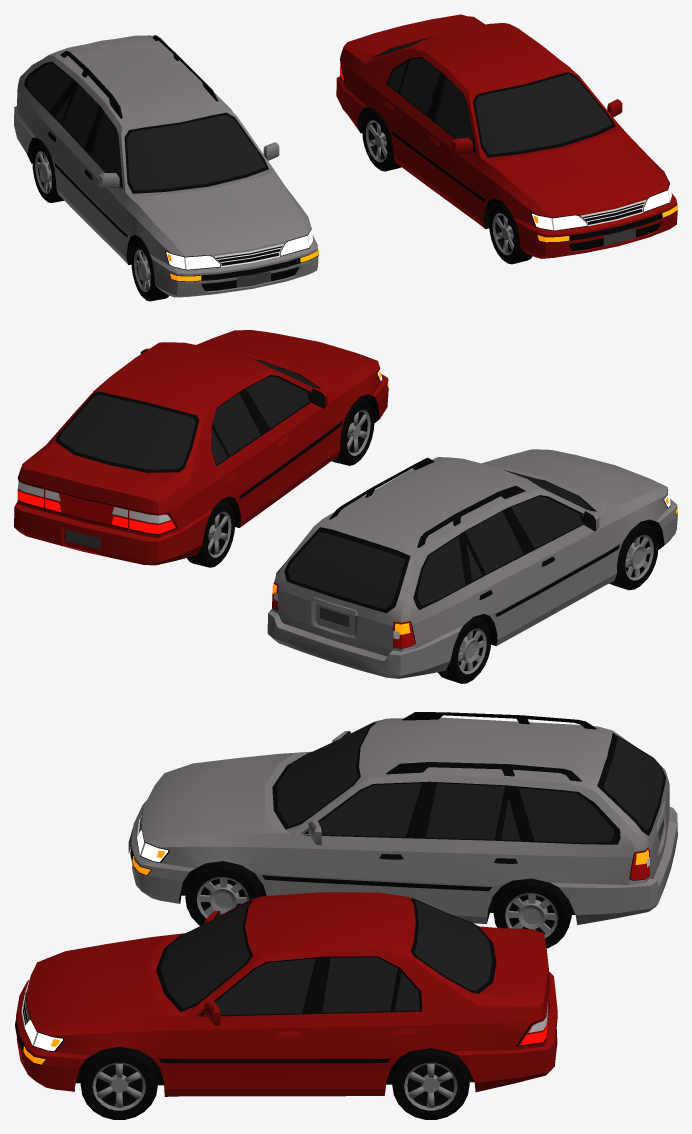
The model's file is lowpoly_sedan__wagon.glb.
3 renders of one model, top to bottom at view 1: azimuth 30°, elevation 25°; view 2: azimuth 150°, elevation 25°; view 3: azimuth 270°, elevation 25°, orthographic. The views are drawn at different scales.
Visible parts, largest first — view 1: body_sedan_9, body_wagon_4, Cylinder.006_7, Cylinder.007_8, Cylinder.002_2, Cylinder.003_3; view 2: body_wagon_4, body_sedan_9, Cylinder.002_2, Cylinder.003_3, Cylinder.007_8, Cylinder.006_7; view 3: body_sedan_9, body_wagon_4, Cylinder.004_5, Cylinder.005_6, Cylinder.001_1, Cylinder_0.
Boxes of the visible parts, left/top/right/bottom form: body_sedan_9: left=336, top=14, right=677, bottom=258; body_wagon_4: left=14, top=35, right=318, bottom=297; Cylinder.006_7: left=489, top=202, right=532, bottom=264; Cylinder.007_8: left=362, top=109, right=401, bottom=171; Cylinder.002_2: left=131, top=239, right=168, bottom=301; Cylinder.003_3: left=32, top=141, right=63, bottom=202; body_wagon_4: left=267, top=449, right=677, bottom=678; body_sedan_9: left=14, top=330, right=388, bottom=565; Cylinder.002_2: left=609, top=522, right=658, bottom=590; Cylinder.003_3: left=438, top=616, right=491, bottom=683; Cylinder.007_8: left=187, top=499, right=235, bottom=567; Cylinder.006_7: left=332, top=397, right=374, bottom=465; body_sedan_9: left=15, top=892, right=557, bottom=1096; body_wagon_4: left=128, top=712, right=677, bottom=924; Cylinder.004_5: left=80, top=1046, right=157, bottom=1119; Cylinder.005_6: left=392, top=1048, right=469, bottom=1119; Cylinder.001_1: left=493, top=878, right=572, bottom=948; Cylinder_0: left=185, top=861, right=264, bottom=925.
Size of the model in its own units: 5.24 by 1.44 by 5.21.
